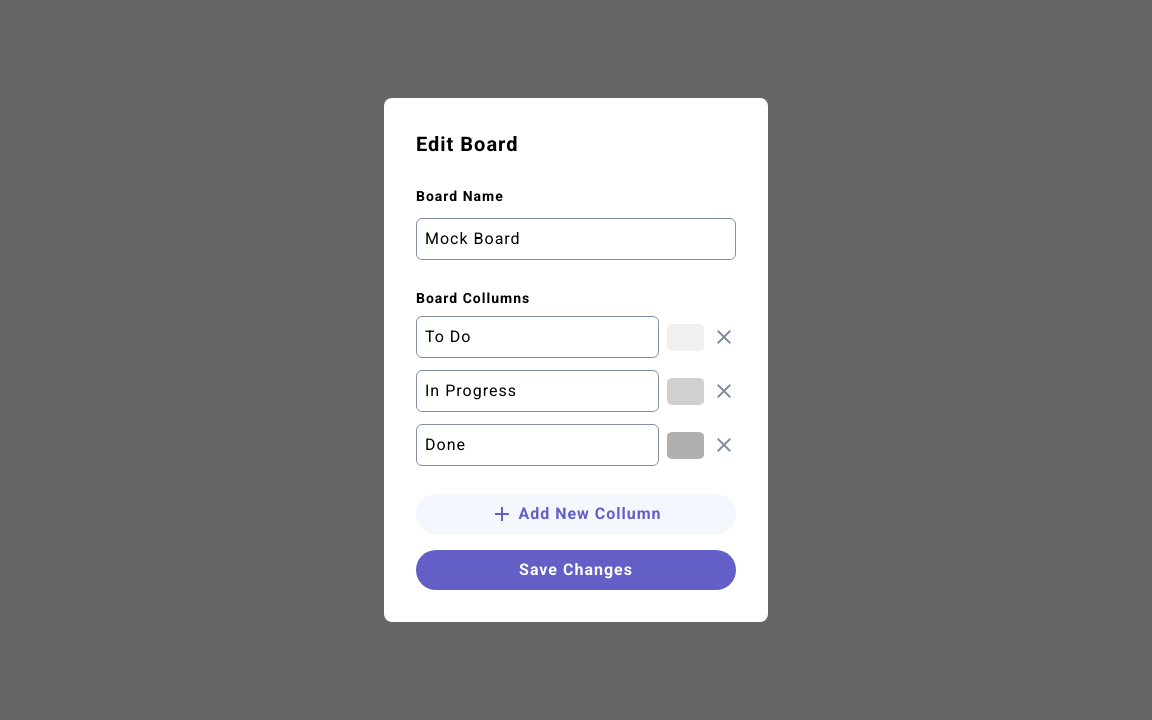
BoardConfigModal › should add a new collumn input when 'Add New Collumn' is clicked
Click the button "Add New Collumn" at (576, 514), box [416,494,736,534]
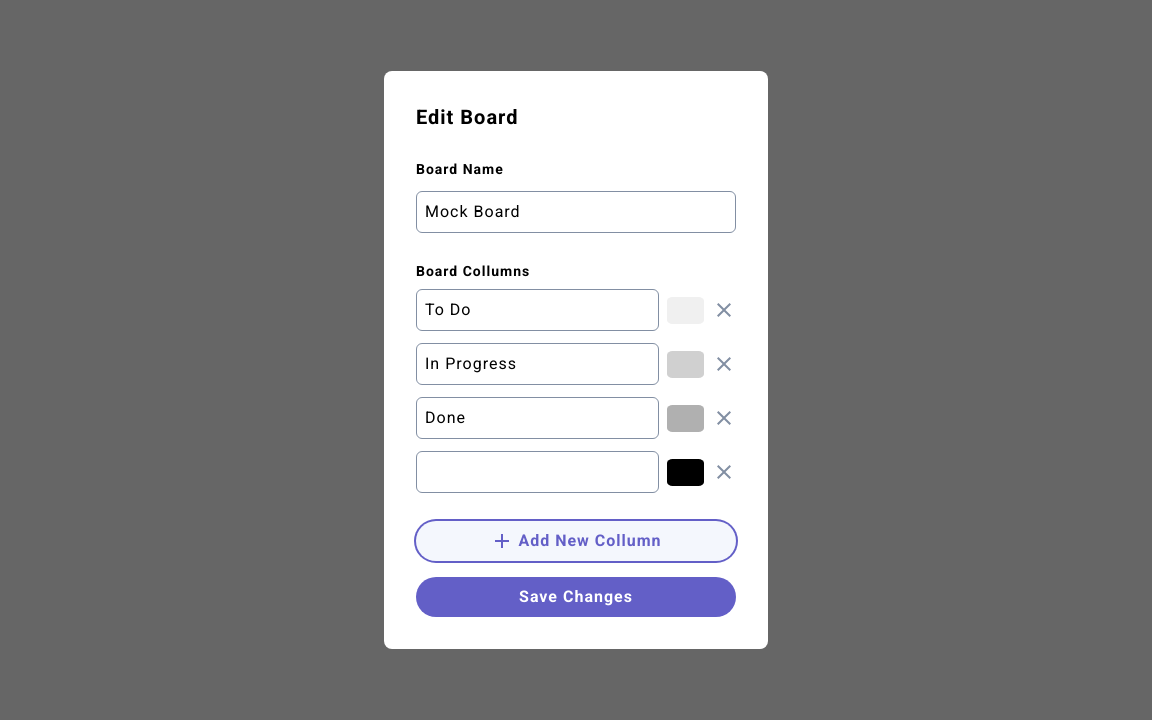
Check: the 5th field is shown, box [416,451,659,493]
